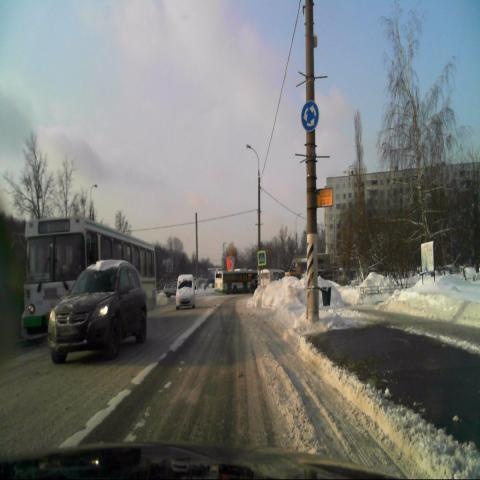4_3: (300, 99, 320, 134)
